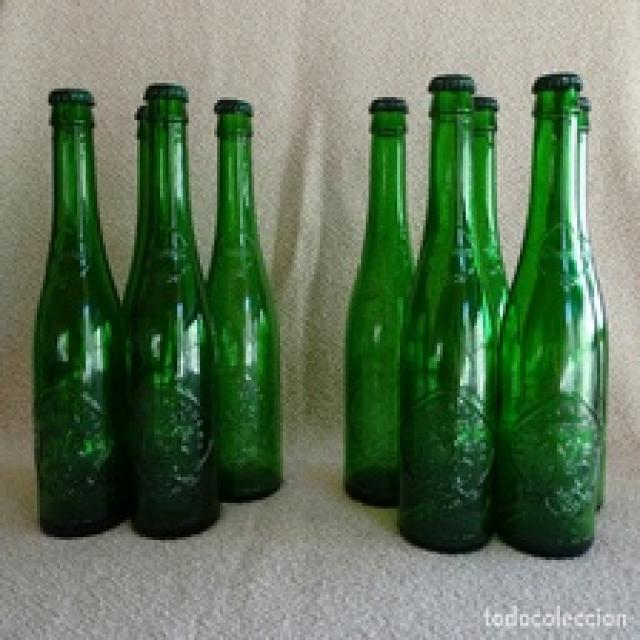Glass: (494, 94, 608, 562), (396, 100, 494, 554), (127, 101, 225, 544), (34, 103, 126, 542), (344, 117, 418, 510), (208, 117, 282, 506)
